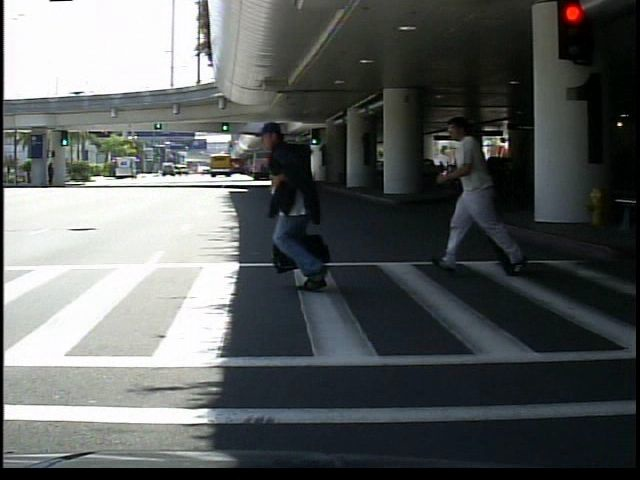person: (258, 116, 343, 295), (449, 112, 513, 275)
